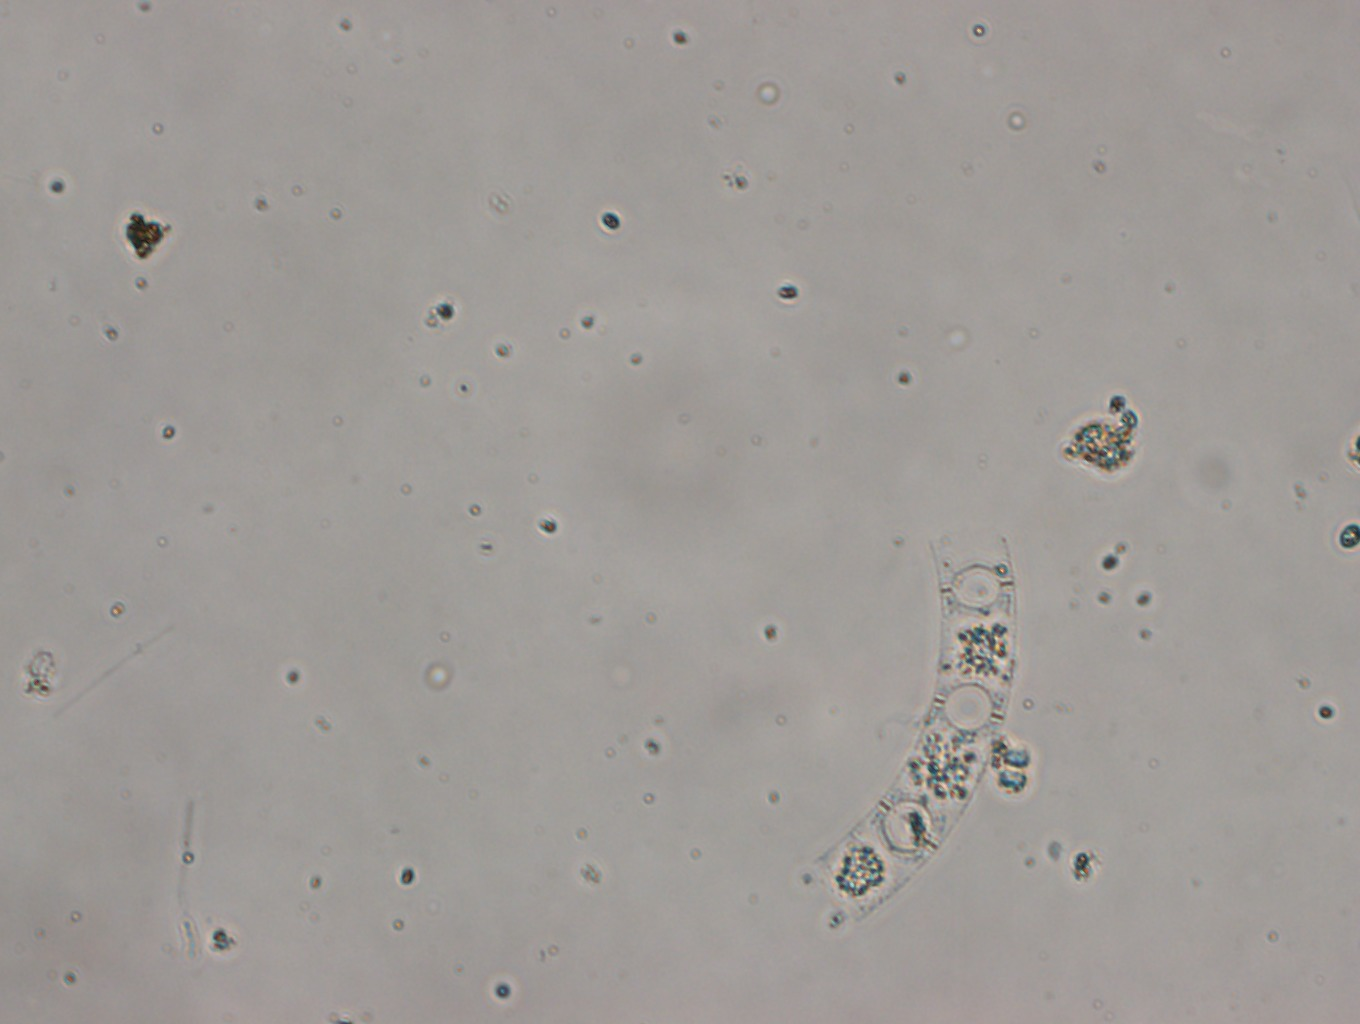eucampia: (807, 530, 1018, 924)
